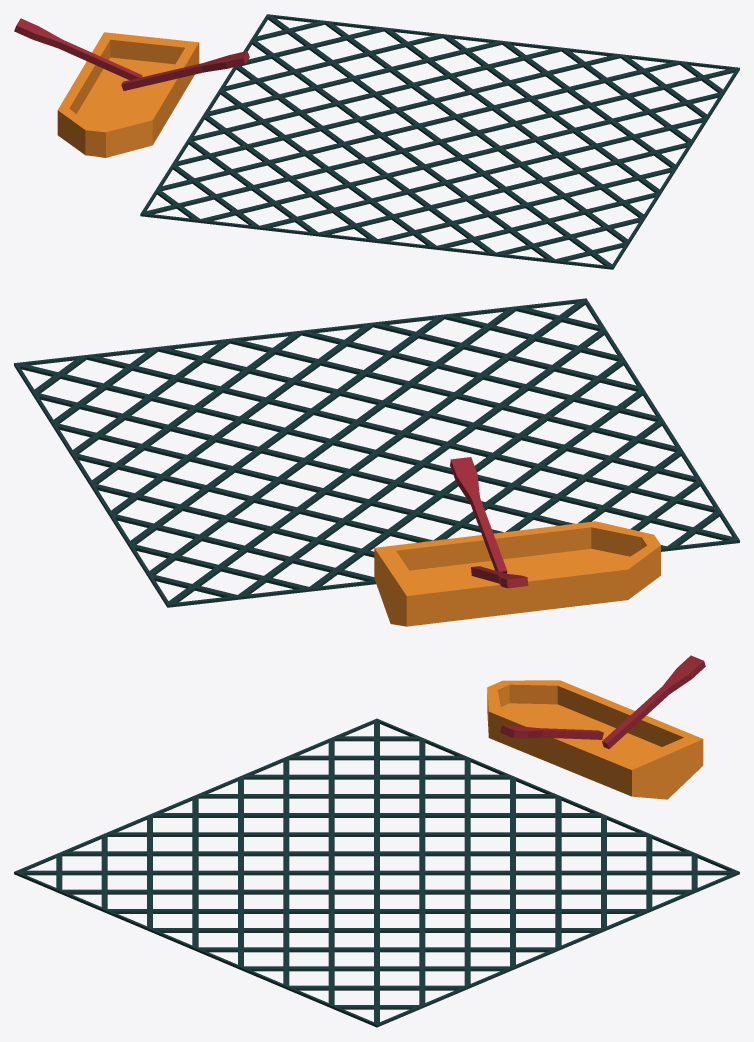
Rendered from fish_net.fbx.
3 views of the same model, one above another, from view 1: azimuth 30°, elevation 25°; view 2: azimuth 150°, elevation 25°; view 3: azimuth 270°, elevation 25° (orthographic). The views are drawn at different scales.
Parts seen in each view (by area): view 1: Plane.001, lodz.001, wioslo1.001, wioslo2.001; view 2: Plane.001, lodz.001, wioslo2.001, wioslo1.001; view 3: Plane.001, lodz.001, wioslo1.001, wioslo2.001.
Boxes of the visible parts, left/top/right/bottom form: Plane.001: left=140, top=14, right=739, bottom=269; lodz.001: left=57, top=32, right=199, bottom=157; wioslo1.001: left=14, top=18, right=142, bottom=79; wioslo2.001: left=121, top=51, right=249, bottom=90; Plane.001: left=14, top=298, right=739, bottom=607; lodz.001: left=374, top=521, right=660, bottom=626; wioslo2.001: left=450, top=457, right=507, bottom=573; wioslo1.001: left=471, top=566, right=528, bottom=588; Plane.001: left=14, top=718, right=739, bottom=1027; lodz.001: left=487, top=680, right=703, bottom=799; wioslo1.001: left=602, top=655, right=705, bottom=748; wioslo2.001: left=500, top=725, right=603, bottom=739.
Bounding box in the file's own units: 12.87 × 1.58 × 12.87.
